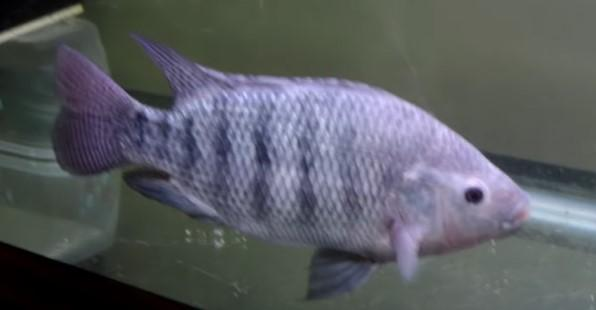Tilapia: (11, 23, 583, 294)
